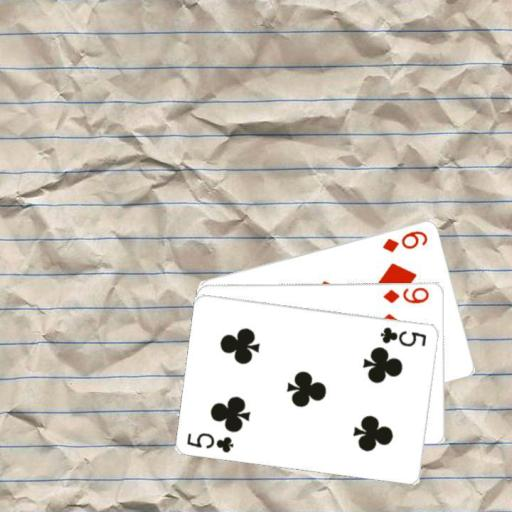5C: (185, 429, 236, 454), (378, 324, 429, 348)
6D: (380, 227, 430, 254)
9D: (380, 286, 431, 305)
